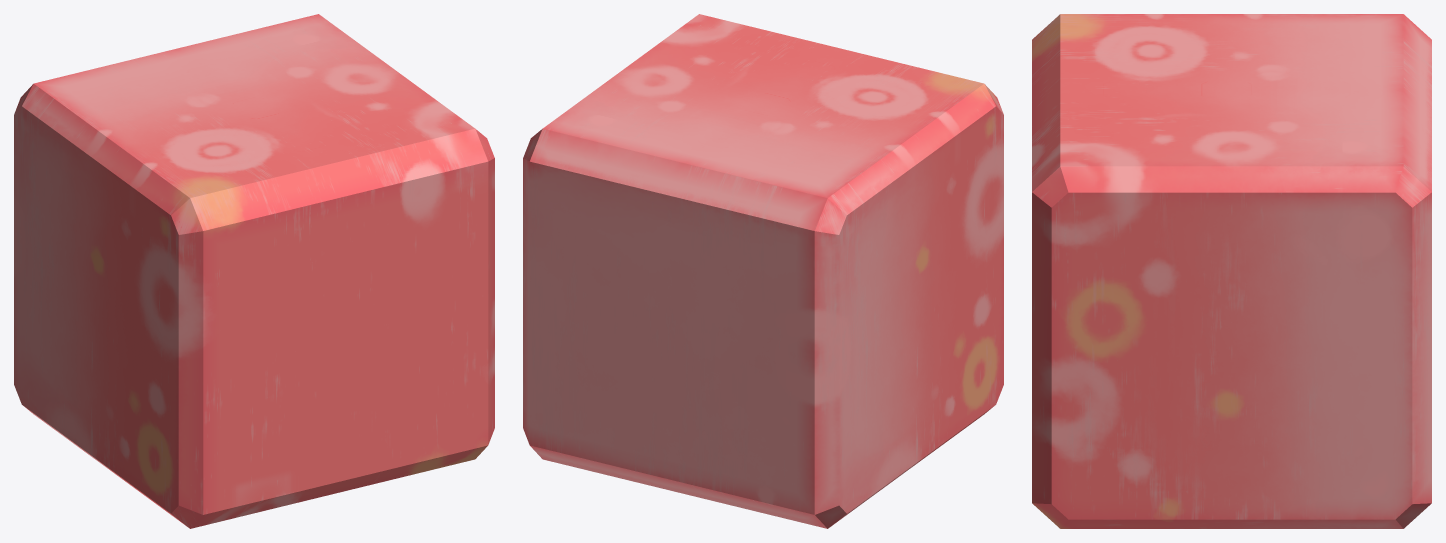
Rendered from worm_totem_body.fbx.
3 views of the same model, side by side, from view 1: azimuth 30°, elevation 25°; view 2: azimuth 150°, elevation 25°; view 3: azimuth 270°, elevation 25° (orthographic). The views are drawn at different scales.
Parts seen in each view (by area): view 1: Cube.006; view 2: Cube.006; view 3: Cube.006.
Part boxes in pixels (x1,y1,x2,y2): Cube.006: [14, 14, 494, 528]; Cube.006: [523, 14, 1003, 528]; Cube.006: [1032, 14, 1431, 528].
Bounding box in the file's own units: 100 × 100 × 100.
Materials: 1 (1 with a texture image).
